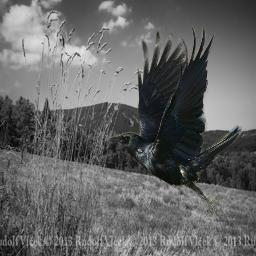Crow: (107, 23, 242, 218)
